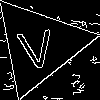V: (14, 19, 57, 70)
